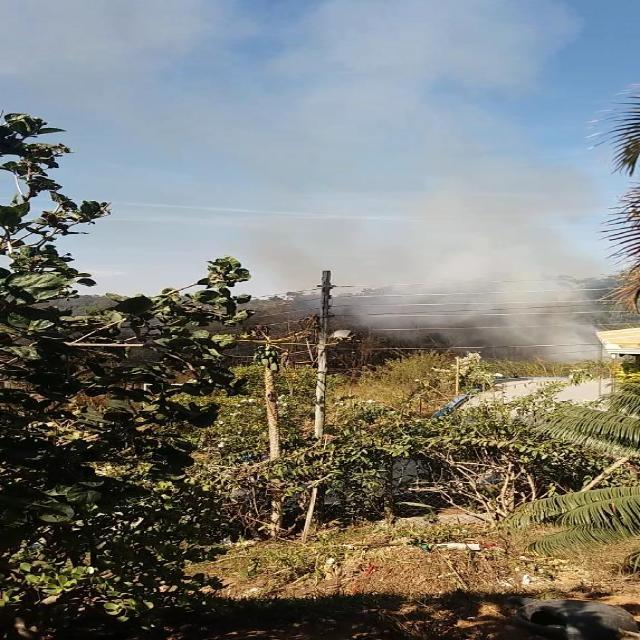Smoke: (223, 146, 640, 380)
